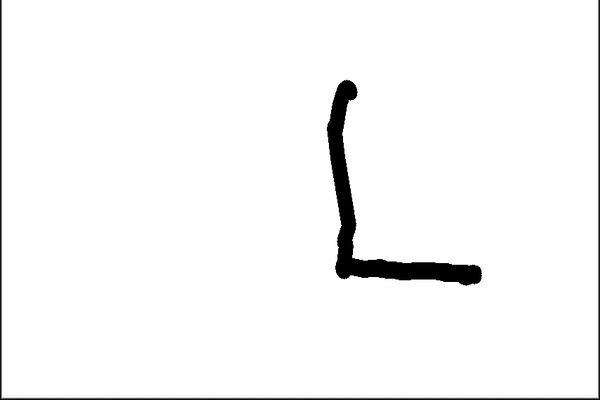L: (316, 73, 486, 295)
